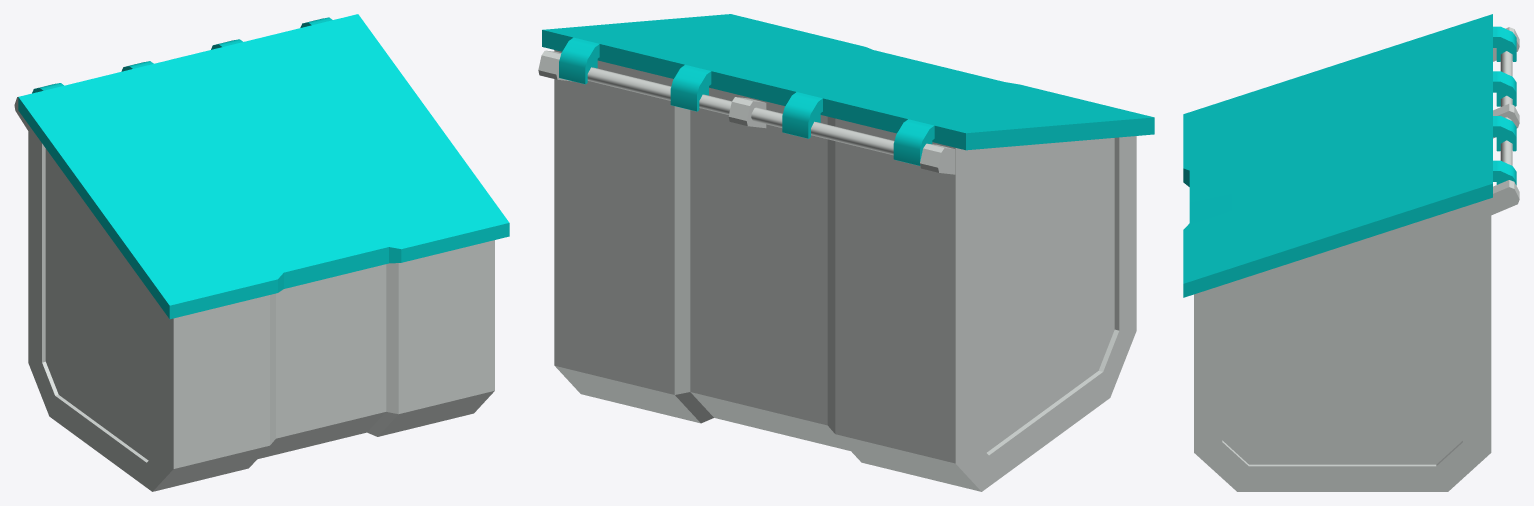
3 renders of one model, left to right at view 1: azimuth 30°, elevation 25°; view 2: azimuth 150°, elevation 25°; view 3: azimuth 270°, elevation 25°, orthographic. The views are drawn at different scales.
Visible parts, largest first — view 1: G:\FFXIV-MapTools\exports\x6t1\bg\ex5\01_xkt_x6\twn\x6t1\bgp (×2); view 2: G:\FFXIV-MapTools\exports\x6t1\bg\ex5\01_xkt_x6\twn\x6t1\bgp (×2); view 3: G:\FFXIV-MapTools\exports\x6t1\bg\ex5\01_xkt_x6\twn\x6t1\bgp (×2).
Part boxes in pixels (left/top/right/bottom): G:\FFXIV-MapTools\exports\x6t1\bg\ex5\01_xkt_x6\twn\x6t1\bgp (×2): left=14, top=14, right=509, bottom=491; G:\FFXIV-MapTools\exports\x6t1\bg\ex5\01_xkt_x6\twn\x6t1\bgp (×2): left=538, top=14, right=1154, bottom=491; G:\FFXIV-MapTools\exports\x6t1\bg\ex5\01_xkt_x6\twn\x6t1\bgp (×2): left=1183, top=14, right=1519, bottom=491.
Size of the model in its own units: 2.11 by 1.81 by 1.77.
